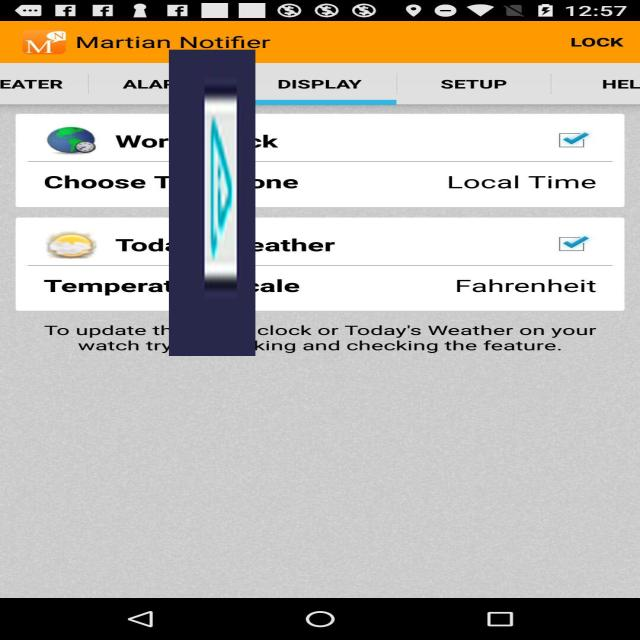sneaking: (169, 50, 255, 356)
